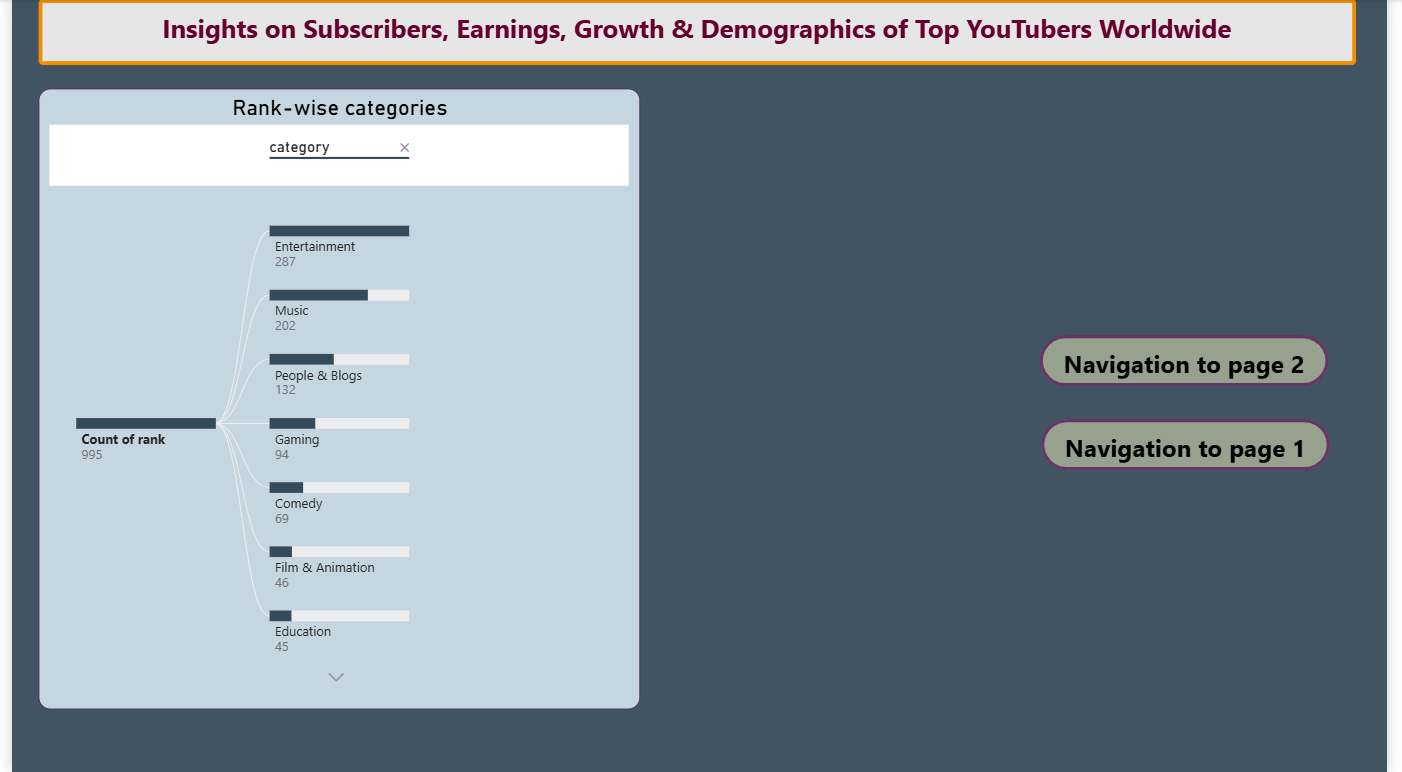

The dashboard page shown, as its layout file describes it:
{"tool":"powerbi","page":{"name":"Page3","canvas":[1280,720],"ordinal":2},"visuals":[{"type":"textbox","box":[25,0,1226.3,61.6],"z":0},{"type":"decompositionTreeVisual","title":"Rank-wise categories","fields":{"Analyze":["CountNonNull(Cleaned_Global_YouTube_Statistics.rank)"],"ExplainBy":["Cleaned_Global_YouTube_Statistics.category"]},"box":[24.6,83.3,559.9,577.7],"z":1000},{"type":"actionButton","box":[956,312.7,269,47.8],"z":2000},{"type":"actionButton","box":[957.3,390.6,269,47.8],"z":3000}]}

Visuals, with their boxes in screenshot pixels (x1, y1, x2, y2), scaled from the page's 1280x720 canvas onto the 1402x772 screenshot:
textbox: (27, 0, 1371, 66)
"Rank-wise categories" decompositionTreeVisual: (27, 89, 640, 709)
actionButton: (1047, 335, 1342, 387)
actionButton: (1049, 419, 1343, 470)
